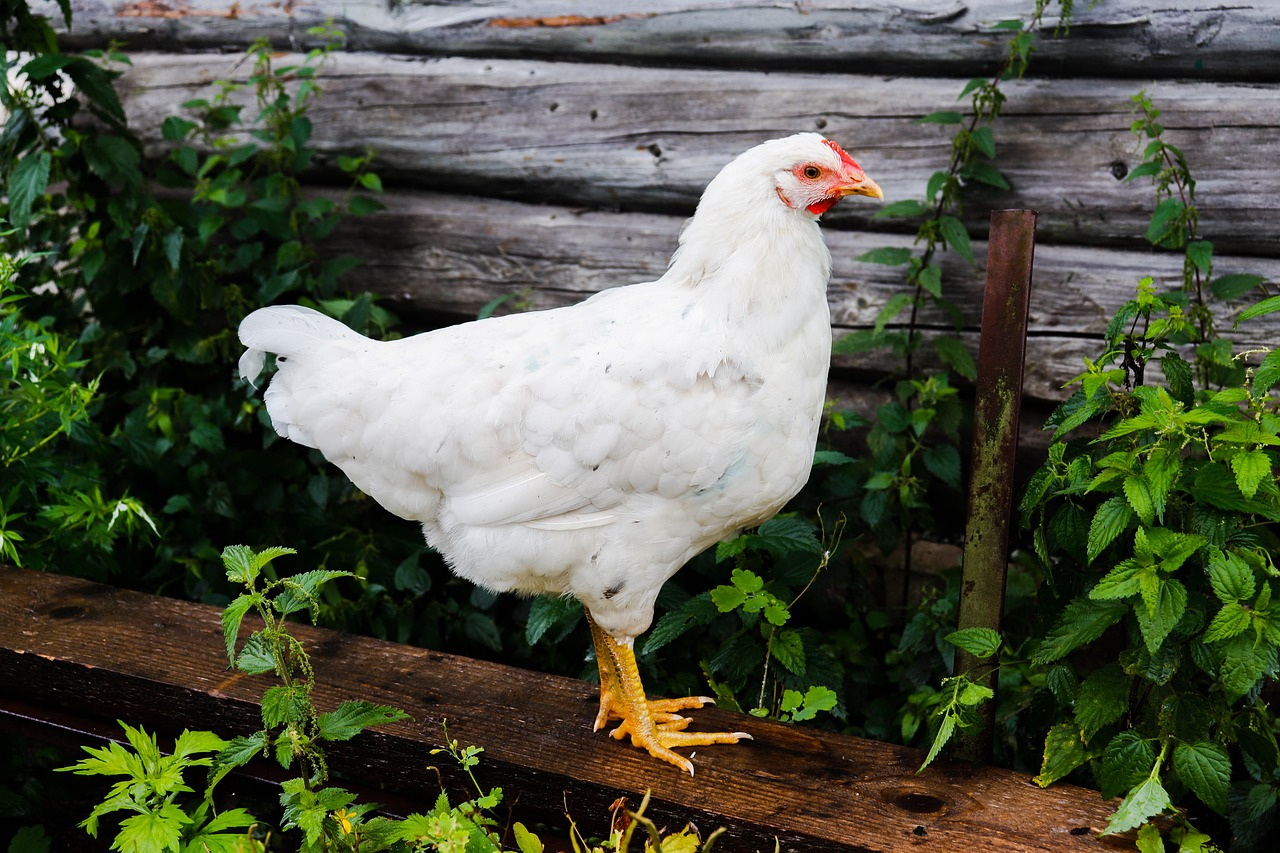Healthy: (231, 116, 884, 771)
